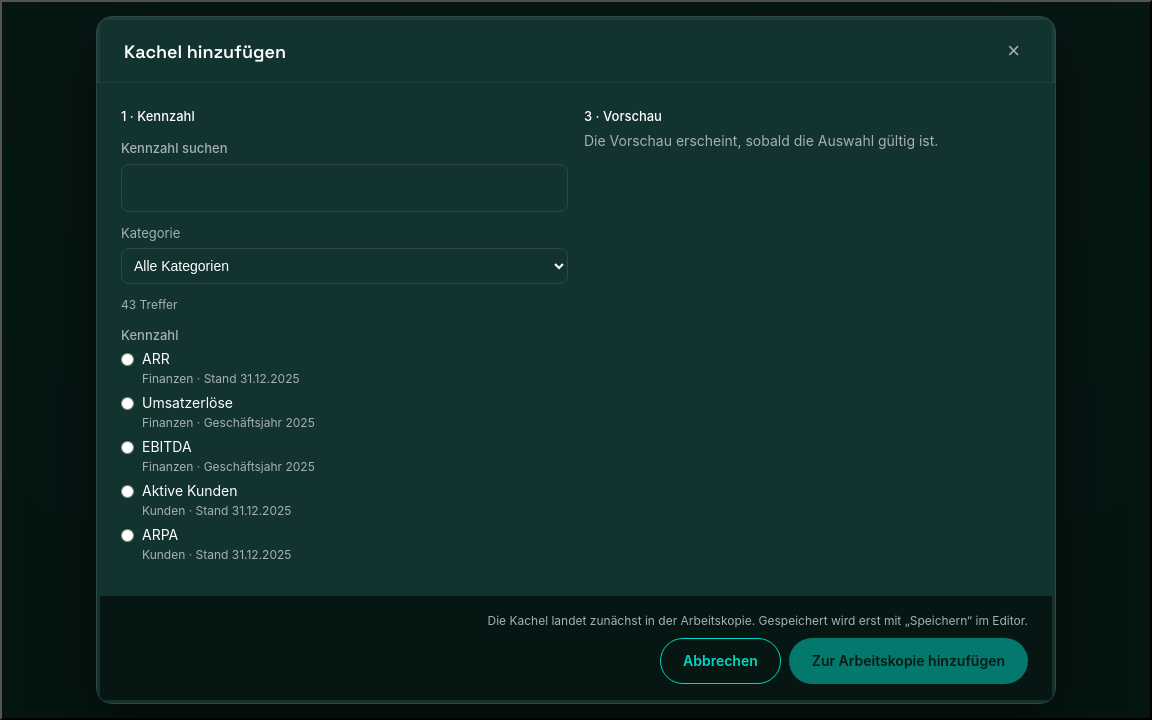
Test: TileConfigurator › zeigt den Grund, wenn die Übergabe abgelehnt wird, und bleibt offen
What coordinates should you click on to do the following:
click the radio button labelled "ARR Finanzen · Stand 31.12.2025"
I would click on:
 (128, 360)
Its box is x1=121 y1=353 x2=134 y2=366.
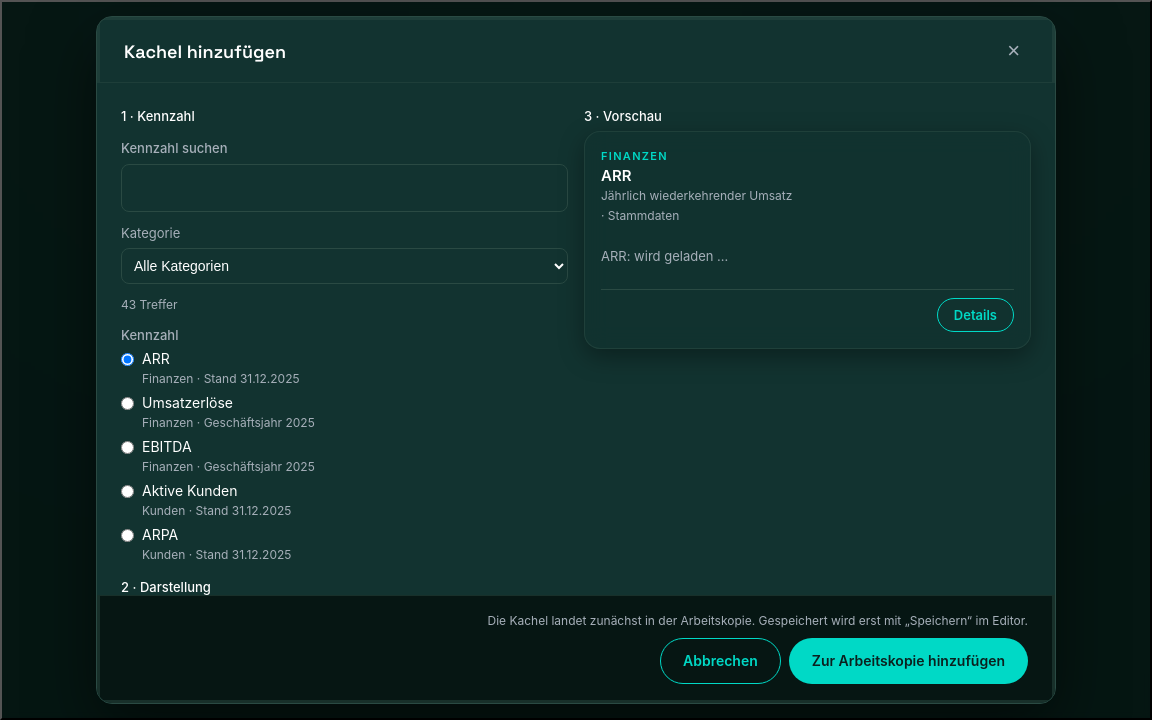
What coordinates should you click on to do the following:
click the button "Zur Arbeitskopie hinzufügen"
I would click on:
 (908, 661)
Its box is x1=789 y1=638 x2=1028 y2=684.
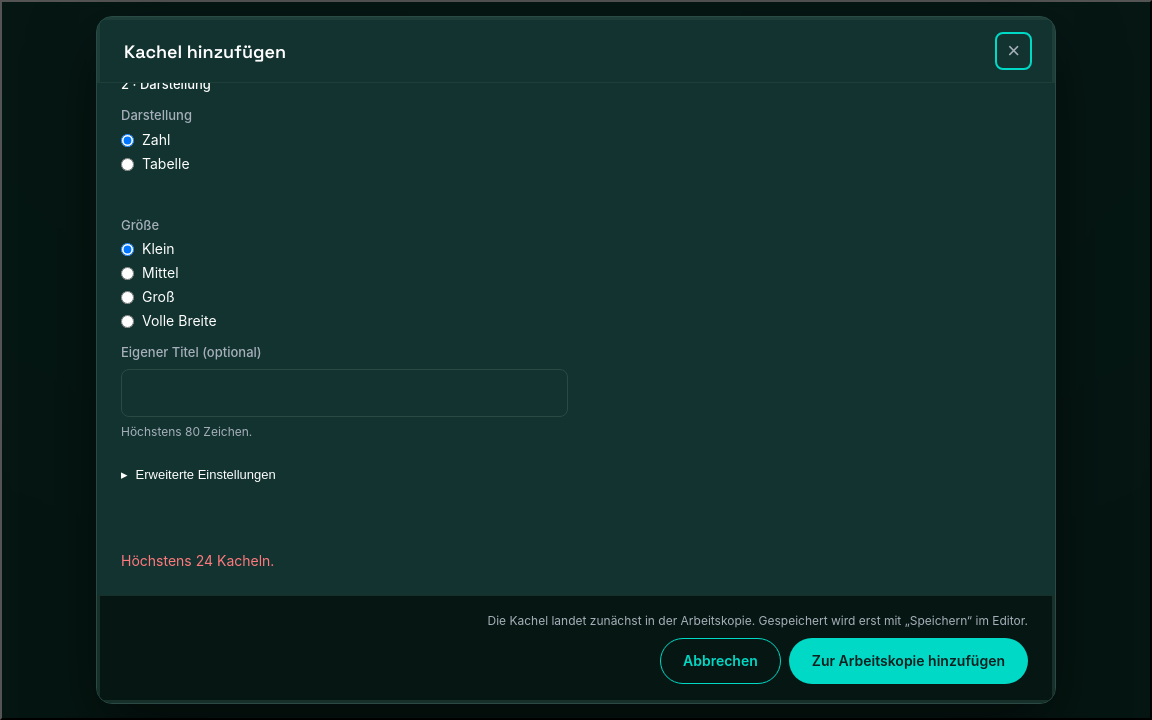
Now the message "Höchstens 24 Kacheln." is shown, box x1=121 y1=552 x2=274 y2=568
